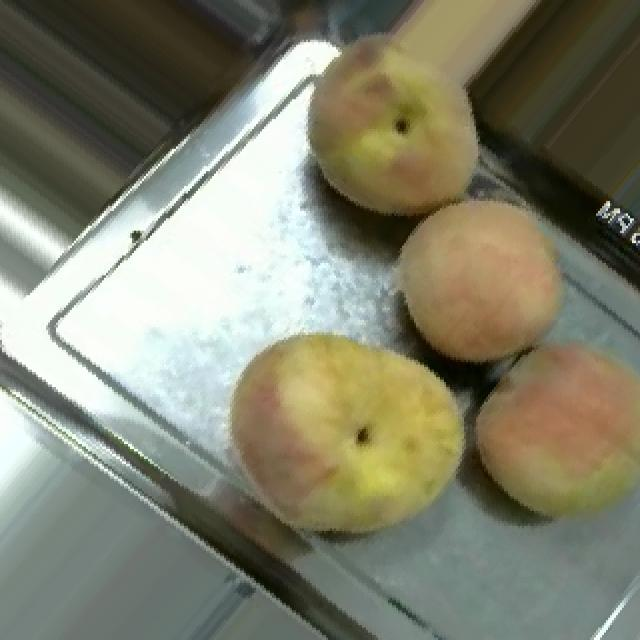Fruit: (192, 310, 496, 571), (276, 0, 534, 248), (368, 164, 600, 387), (450, 302, 640, 550), (0, 22, 148, 298)
